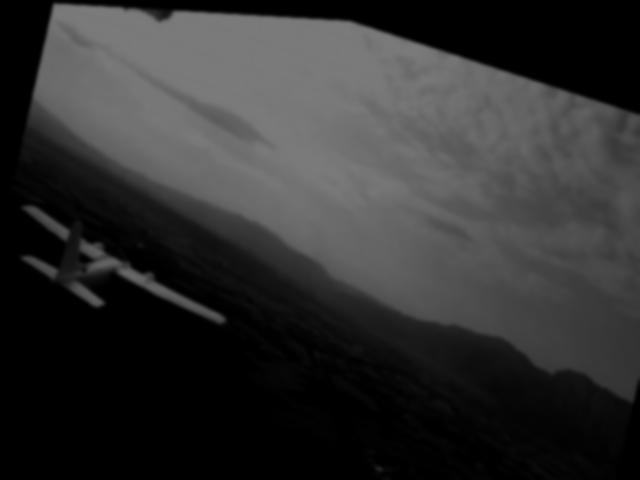hedef: (6, 185, 255, 362)
